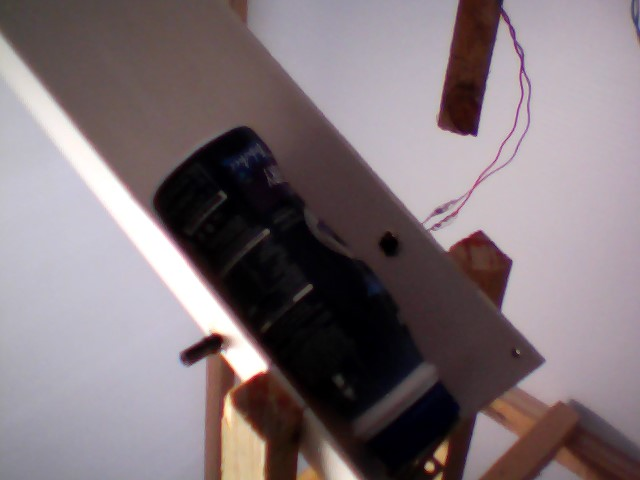plastico: (144, 122, 468, 480)
